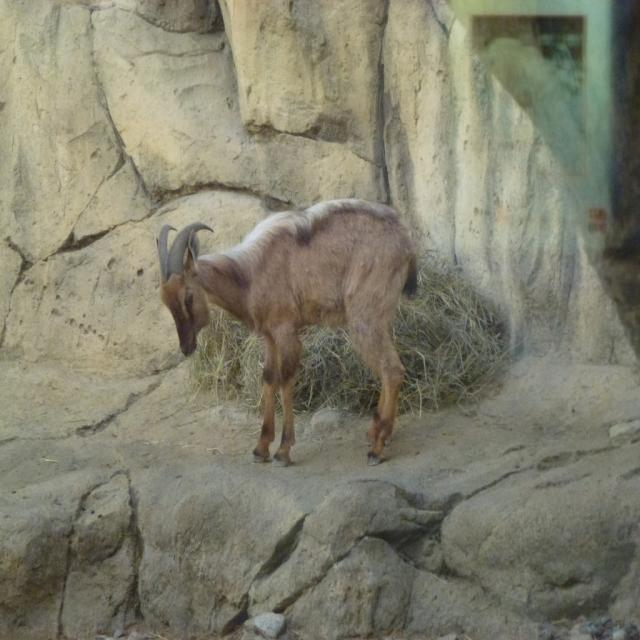Goat: (157, 180, 423, 472)
